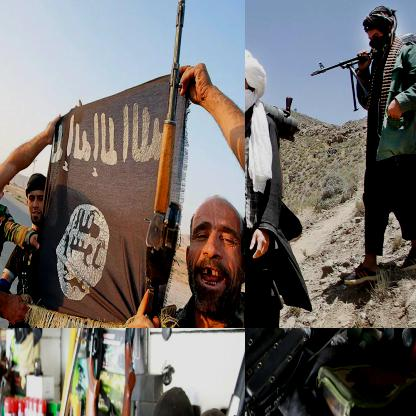knife: (245, 328, 337, 415), (245, 328, 314, 365)
rifle: (136, 0, 196, 327), (310, 19, 415, 94), (245, 40, 299, 144)
